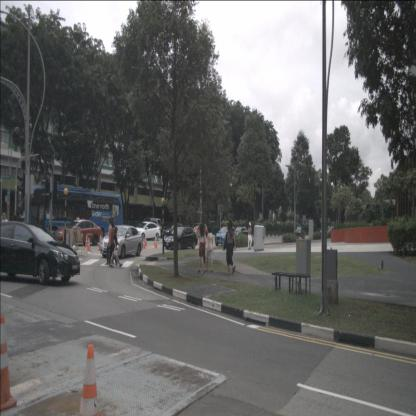human-pedestrian-adult: (223, 223, 235, 275), (109, 228, 123, 268), (0, 212, 9, 274), (197, 224, 207, 276), (104, 219, 114, 265), (228, 220, 236, 272), (206, 226, 214, 273), (247, 222, 253, 250)
movable_object-trafficcone: (78, 344, 100, 416), (0, 314, 16, 412), (84, 234, 89, 249), (98, 234, 102, 250), (86, 237, 90, 252), (142, 237, 146, 250), (154, 237, 158, 248), (145, 235, 147, 246), (197, 238, 199, 247)
vehicle-bus-rigid: (30, 187, 124, 244)
vehicle-car: (0, 220, 80, 284), (100, 224, 143, 258), (51, 219, 103, 246), (164, 227, 198, 250), (135, 223, 160, 241), (160, 223, 186, 240), (215, 226, 237, 246), (188, 222, 208, 240), (236, 226, 249, 241), (295, 226, 305, 236)
vehicle-truck: (144, 218, 161, 234)
